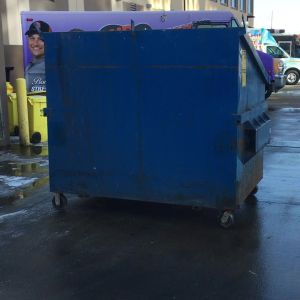Dumpster: (34, 16, 278, 236)
